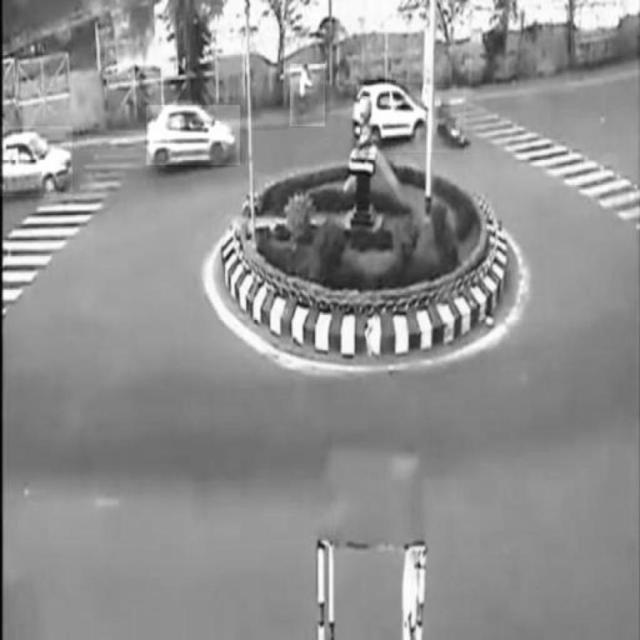accident: (356, 85, 466, 153)
vehicle: (147, 105, 240, 165), (1, 127, 73, 197), (291, 65, 326, 127)
